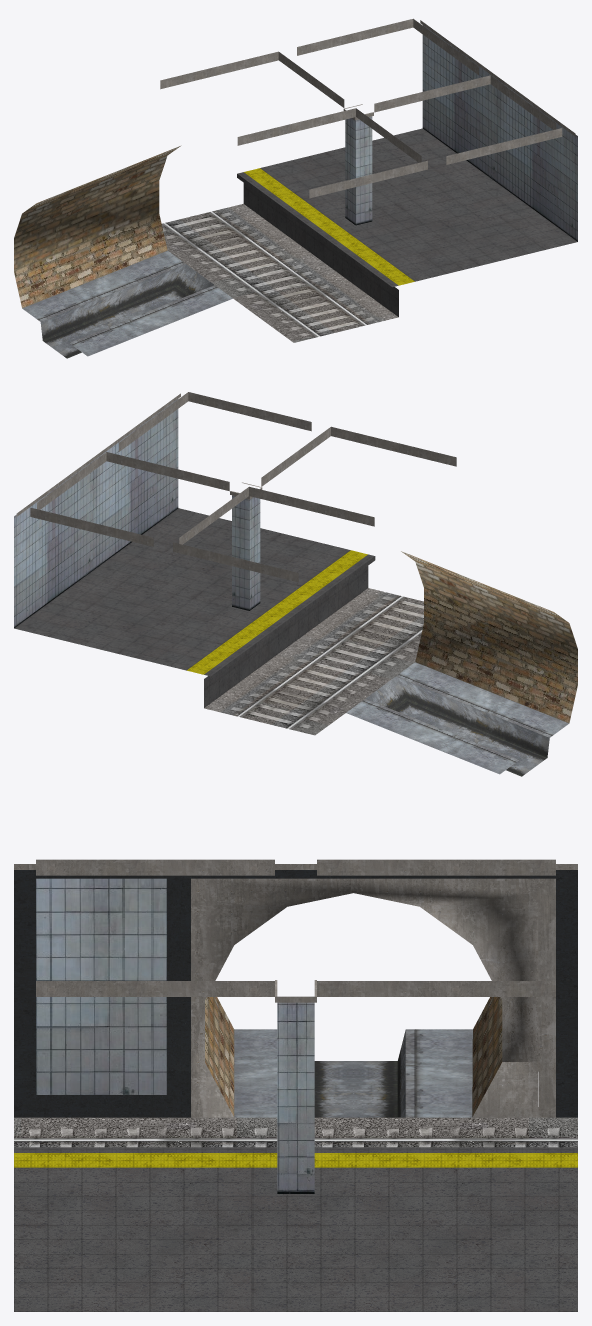
The model's file is pillar_sewer.glb.
3 views of the same model, one above another, from view 1: azimuth 30°, elevation 25°; view 2: azimuth 150°, elevation 25°; view 3: azimuth 270°, elevation 25° (orthographic). The views are drawn at different scales.
Parts seen in each view (by area): view 1: St_04.001, Column.001; view 2: St_04.001, Column.001; view 3: St_04.001, Column.001.
Part boxes in pixels (x1,y1,x2,y2): St_04.001: [14, 18, 577, 358]; Column.001: [343, 104, 373, 225]; St_04.001: [14, 392, 577, 776]; Column.001: [230, 482, 262, 610]; St_04.001: [14, 859, 577, 1311]; Column.001: [275, 980, 316, 1193].
Size of the model in its own units: 20.01 by 8.43 by 12.52.
10 materials, 10 textured.
